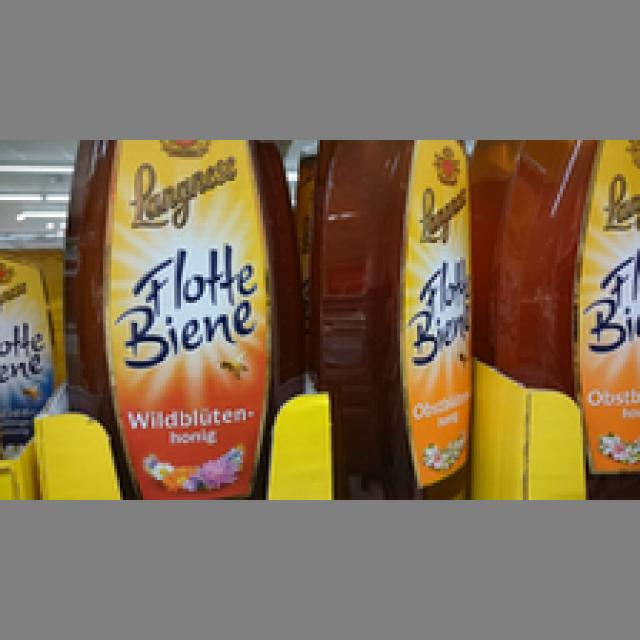groceries: (69, 134, 288, 494), (312, 134, 477, 497), (509, 134, 637, 500)
